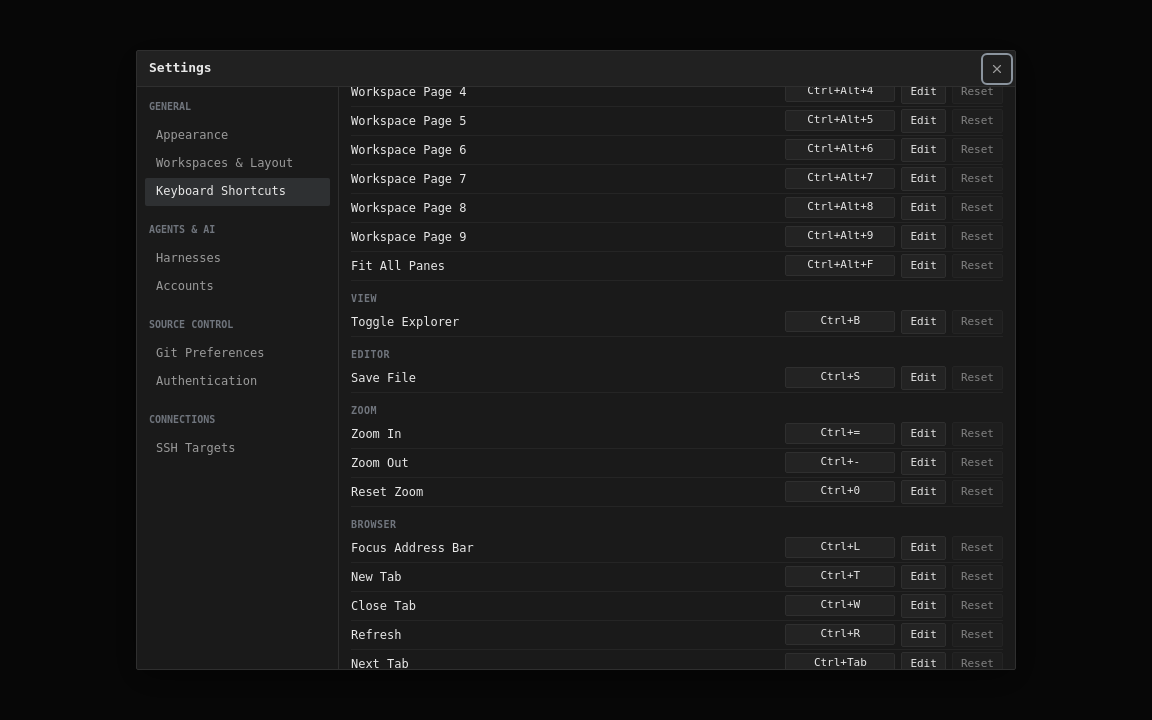
it: Keyboard Shortcuts in Settings › Escape cancels capture without saving and without closing the dialog
The width and height of the screenshot is (1152, 720).
(page scrolled)
Click the button with aria-label "Edit Save File shortcut" at point(924, 378), box x1=901 y1=366 x2=946 y2=390
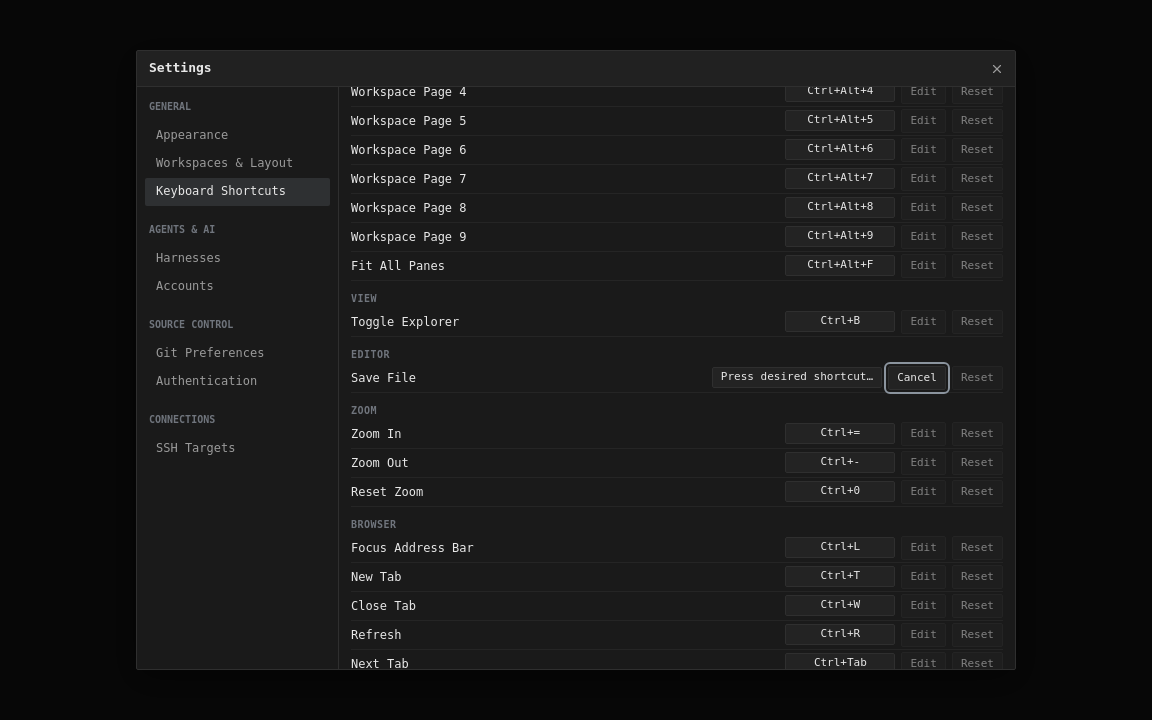
Press Escape
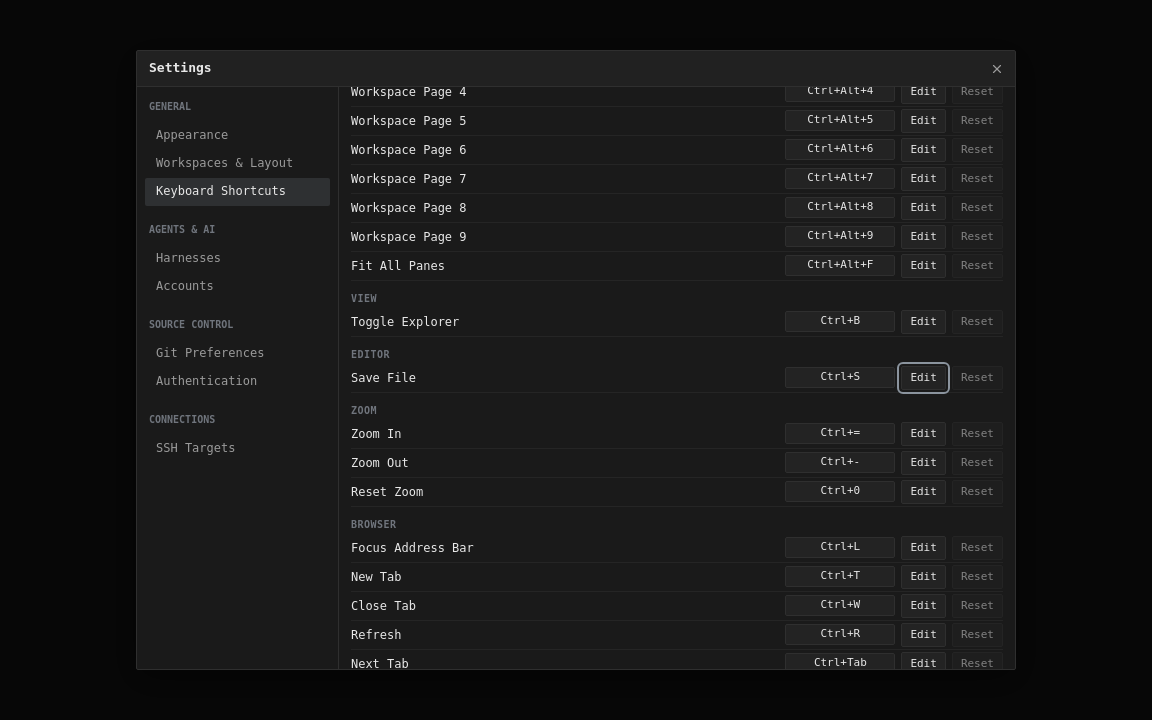
Now the text "Press desired shortcut…" is gone
Now the text "Ctrl+S" is shown, box x1=785 y1=367 x2=895 y2=388
